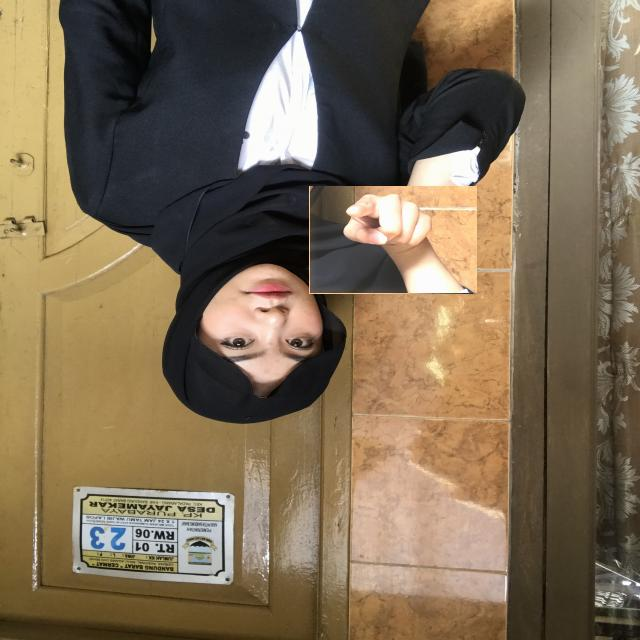kamu: (309, 186, 477, 294)
